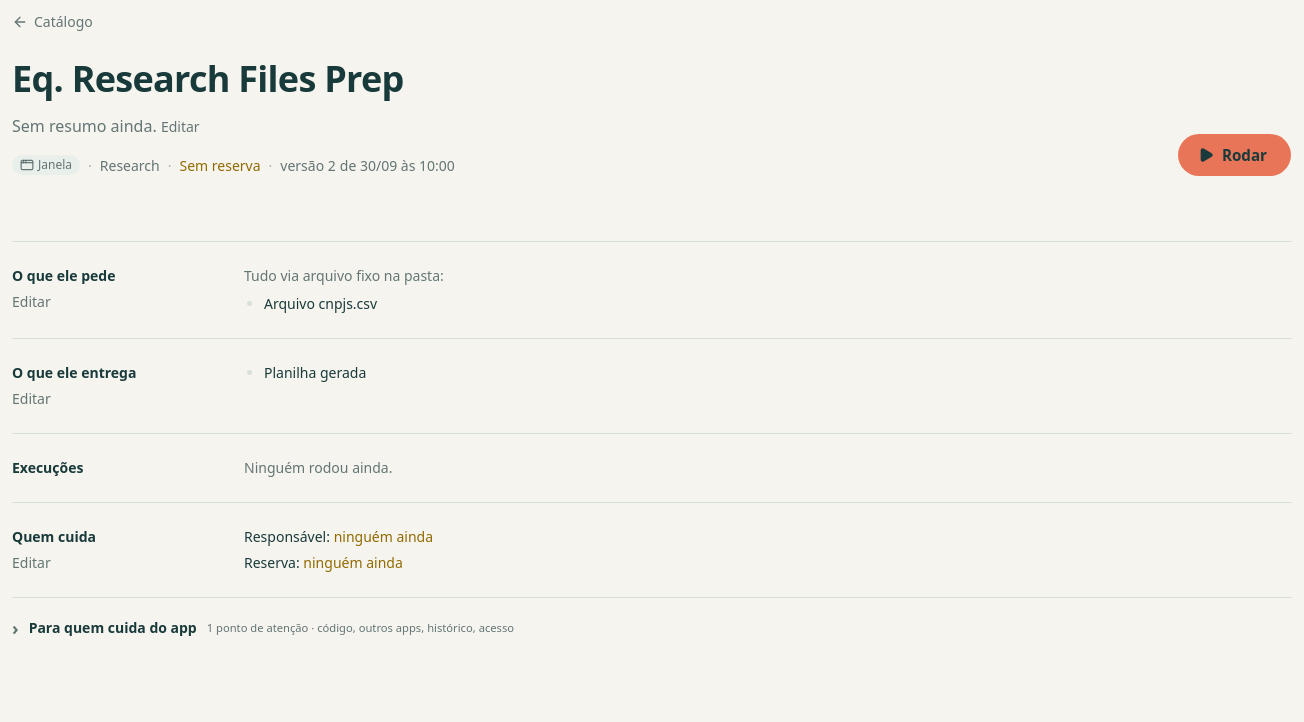
Scenario: keeps the part open and offers reload on a conflict
What coordinates should you click on to do the following:
click the button with aria-label "Editar O que ele entrega"
I would click on:
 (31, 399)
Its box is [12,389,51,409].
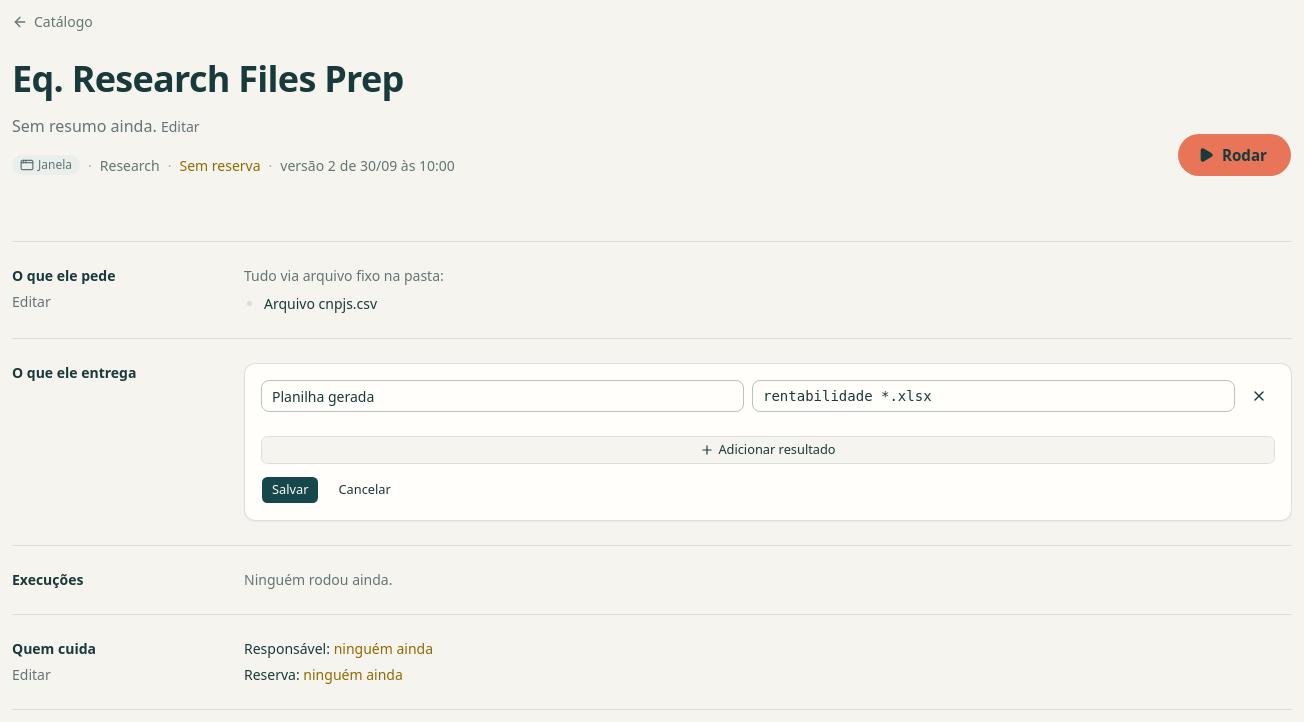
What coordinates should you click on to do the following:
click the button "Salvar"
I would click on:
 (290, 490)
Its box is [261,476,320,504].
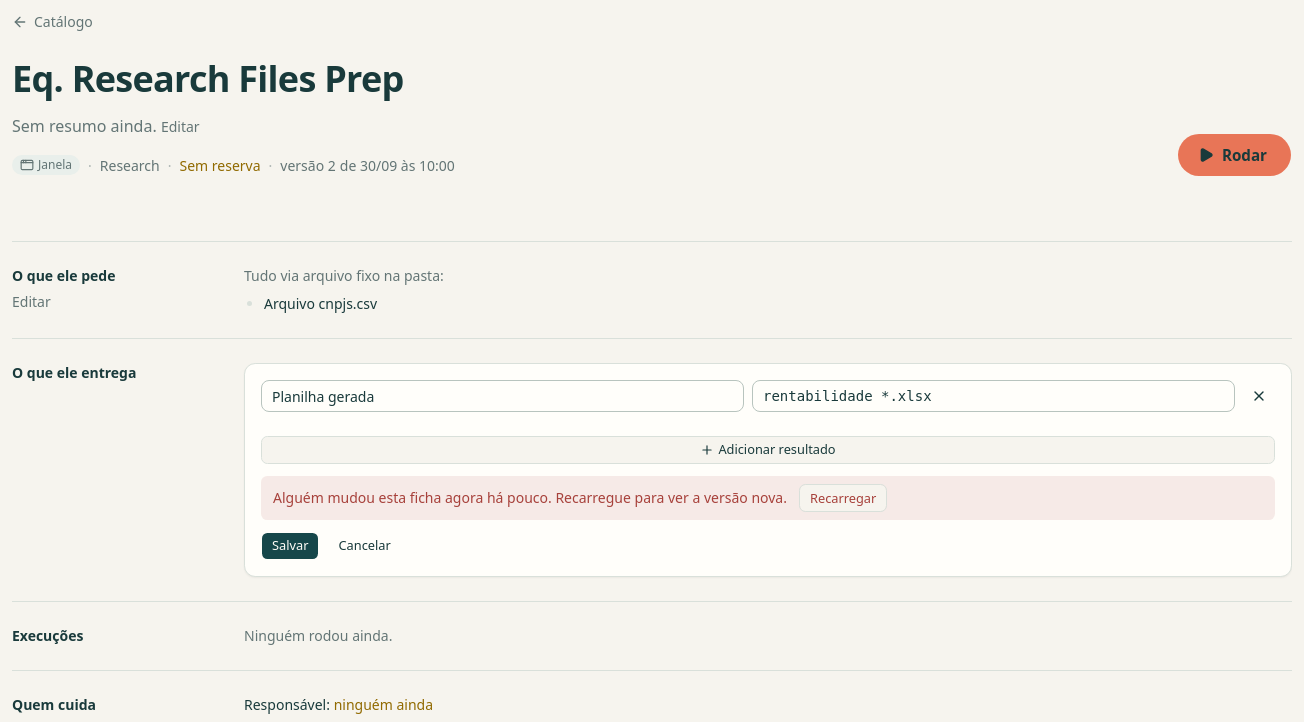
Check: the message shows "Recarregue", box [273,488,787,507]
Check: the button "Recarregar" is shown, box [799,484,887,512]
